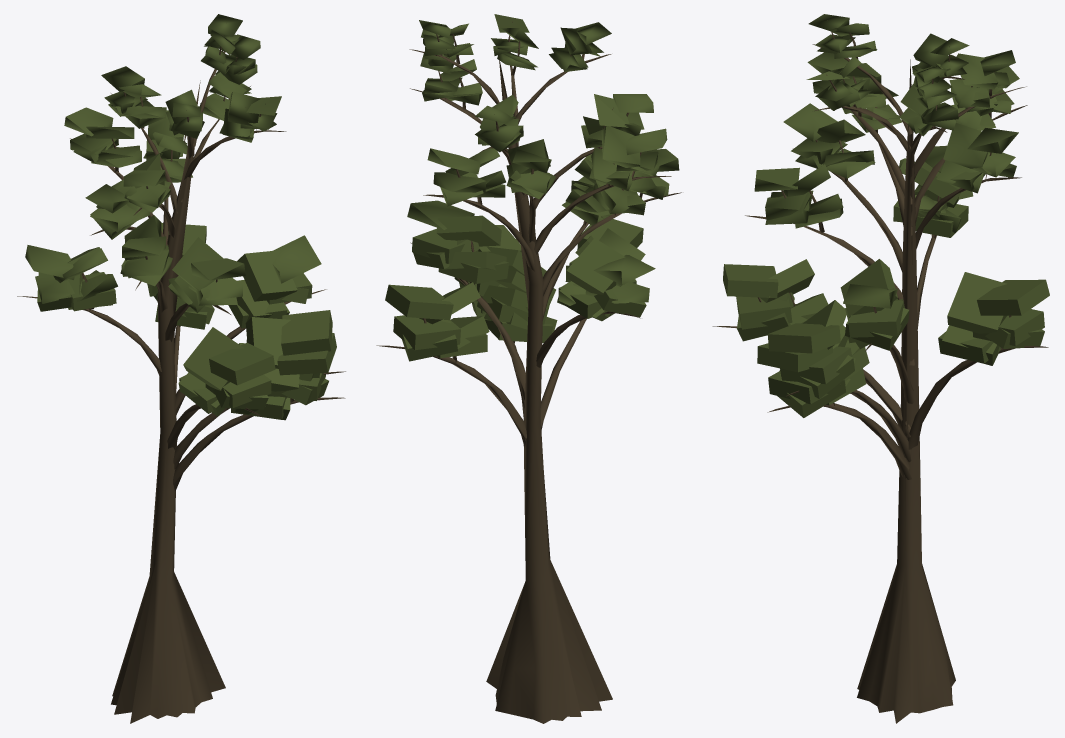
Rendered from Tree_BaldCypress_002.fbx.
3 views of the same model, side by side, from view 1: azimuth 30°, elevation 25°; view 2: azimuth 150°, elevation 25°; view 3: azimuth 270°, elevation 25° (orthographic). The views are drawn at different scales.
Parts seen in each view (by area): view 1: Tree_BaldCypress.002; view 2: Tree_BaldCypress.002; view 3: Tree_BaldCypress.002.
Part boxes in pixels (bbox=[...]): Tree_BaldCypress.002: bbox=[17, 14, 345, 723]; Tree_BaldCypress.002: bbox=[376, 14, 681, 723]; Tree_BaldCypress.002: bbox=[712, 14, 1049, 723].
Bounding box in the file's own units: 1149 × 2624 × 1164.
